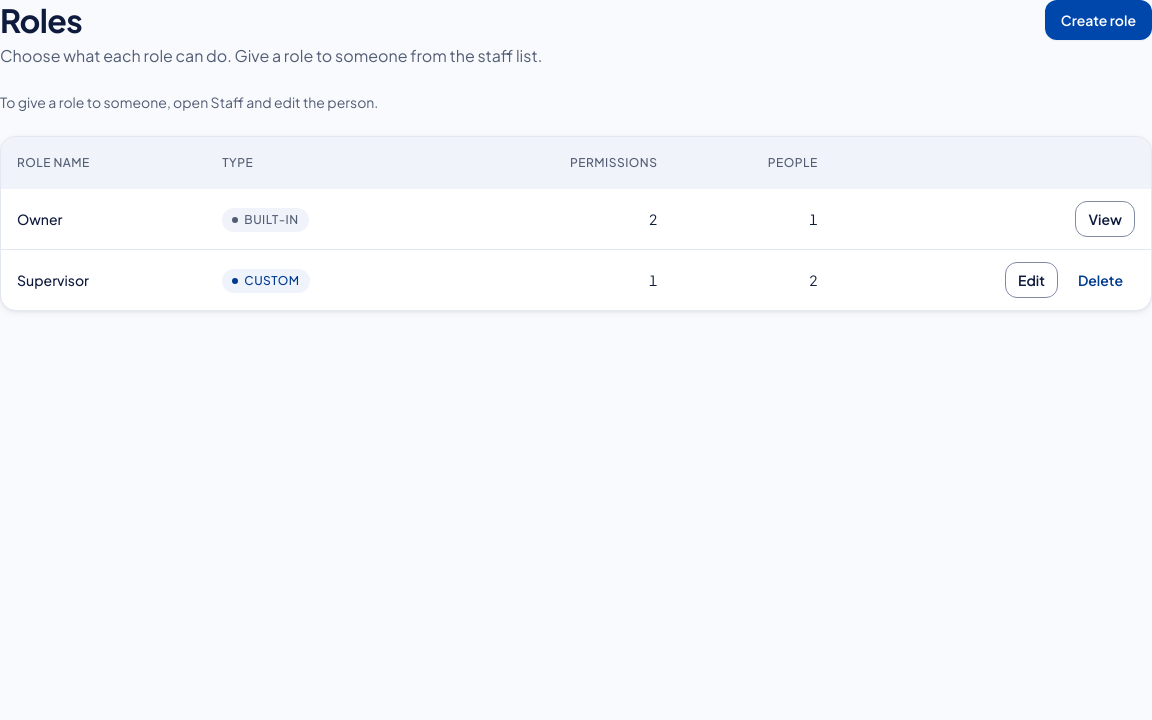
Test: roles screen › shows the server's message when a name is taken
The image size is (1152, 720).
Click the button "Create role" at (1098, 20), box [1045,0,1151,40]
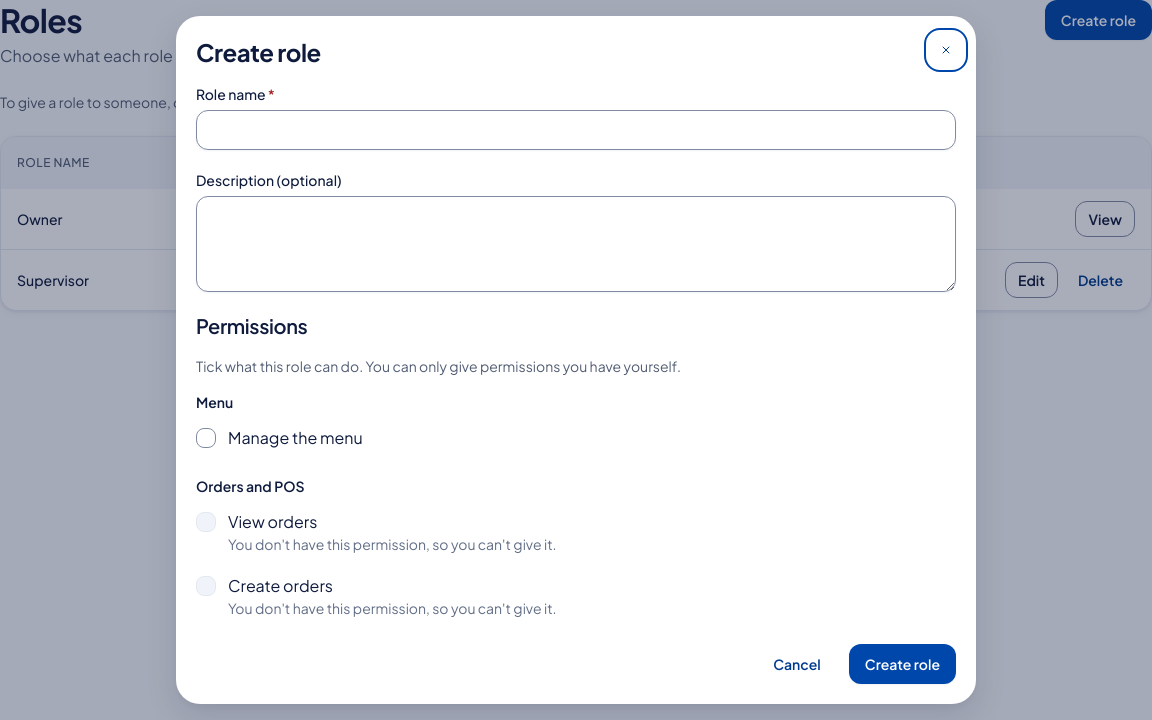
Type "Supervisor" into the field labelled "Role name*" at (576, 130), box [196,110,956,150]
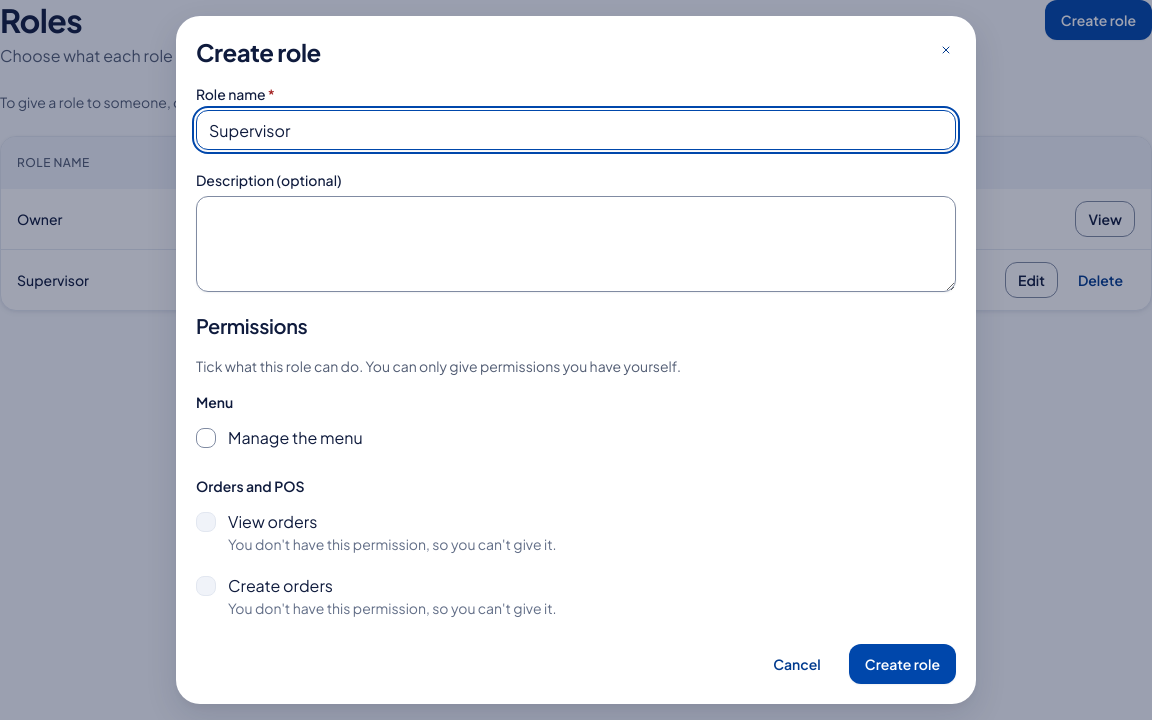
Click the button "Create role" at (902, 664), box [849,644,956,684]
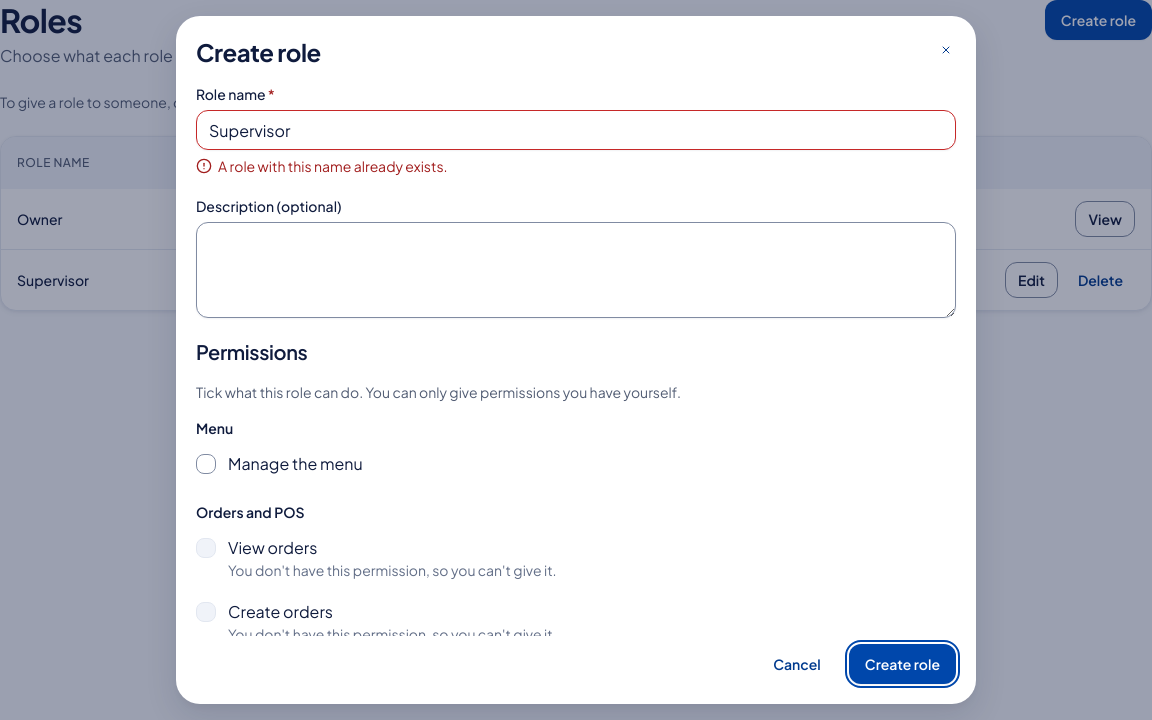
Expected: the text "A role with this name already exists." is shown, [218,156,448,176]
